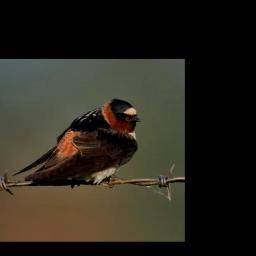Swallow: (11, 97, 142, 188)
